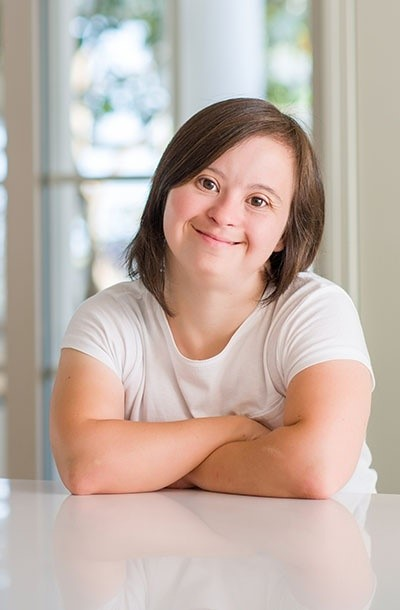face_no_mask: (151, 103, 303, 291)
